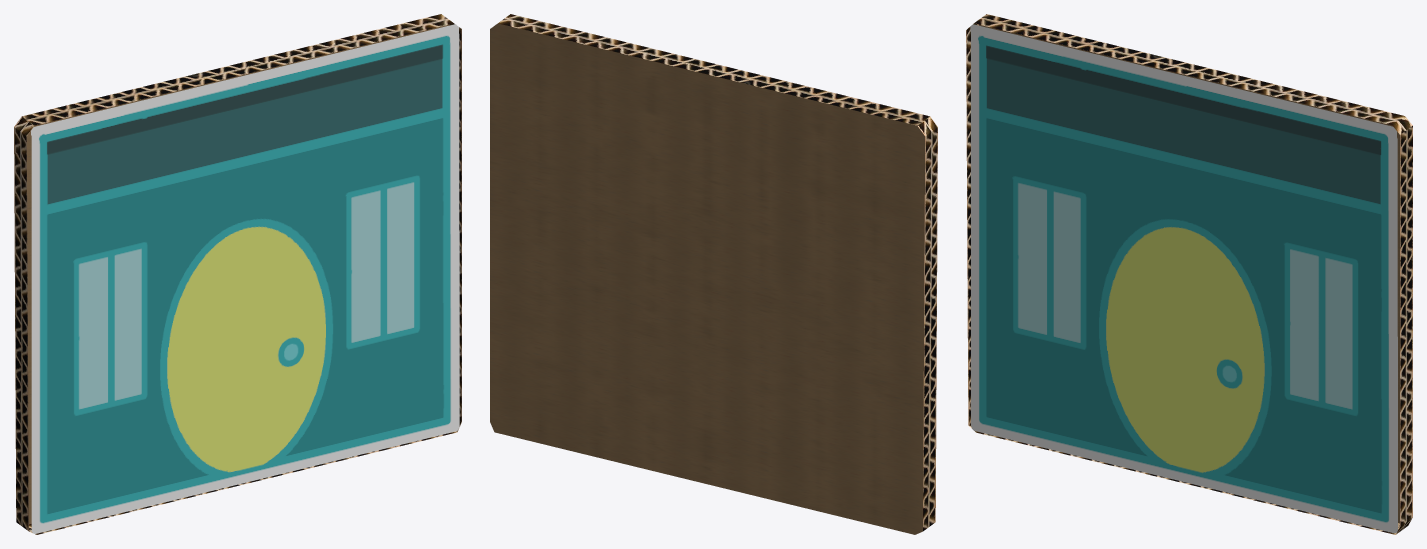
File: House_Base03.fbx
3 renders of one model, left to right at view 1: azimuth 30°, elevation 25°; view 2: azimuth 150°, elevation 25°; view 3: azimuth 330°, elevation 25°, orthographic.
Parts seen in each view (by area): view 1: Line009; view 2: Line009; view 3: Line009.
Boxes of the visible parts, x1=… form: Line009: x1=14, y1=14, x2=461, y2=534; Line009: x1=490, y1=14, x2=937, y2=534; Line009: x1=966, y1=14, x2=1412, y2=534.
Size of the model in its own units: 24.97 by 22.47 by 1.27.
Materials: 3 (3 with a texture image).
